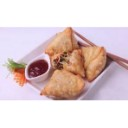samosa: (47, 67, 82, 97), (81, 45, 109, 81), (46, 26, 79, 54)
